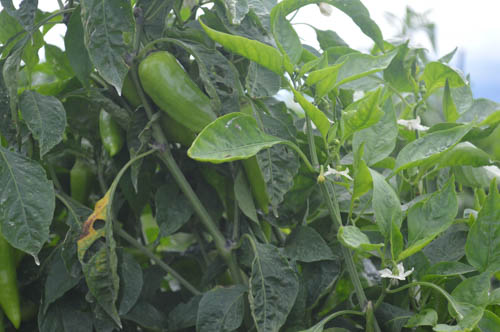ChiliPepper: (144, 57, 211, 133), (95, 111, 121, 153)
